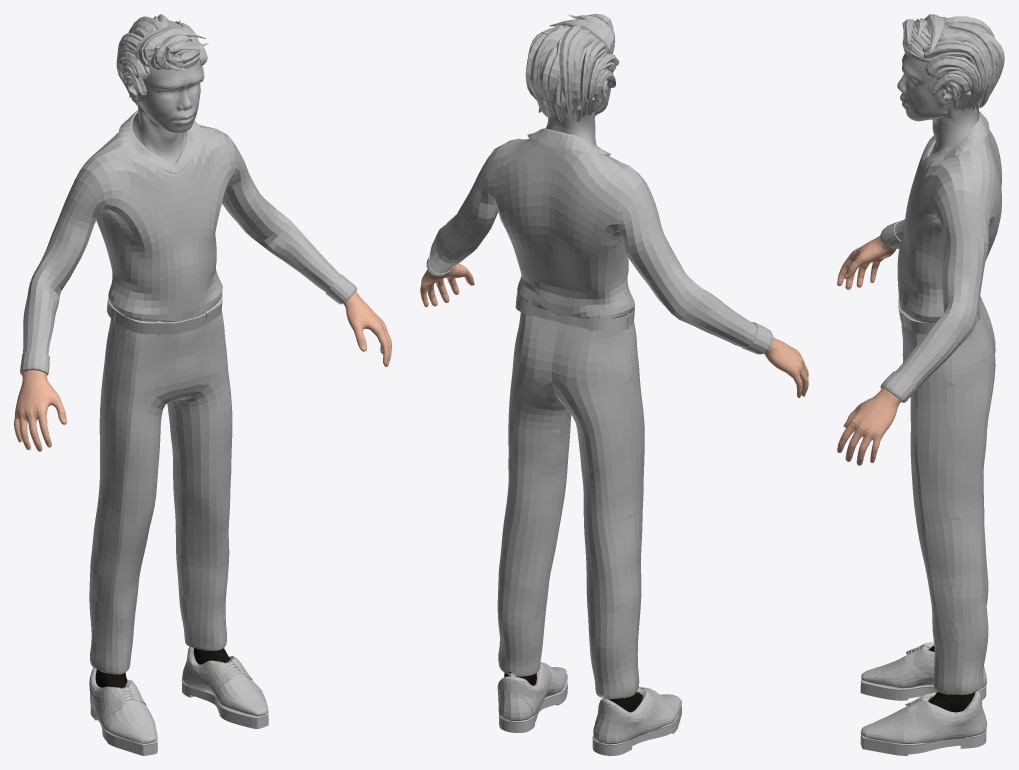
File: AntonioCarlos_CHAR.fbx
3 renders of one model, left to right at view 1: azimuth 30°, elevation 25°; view 2: azimuth 150°, elevation 25°; view 3: azimuth 270°, elevation 25°, orthographic. The views are drawn at different scales.
Visible parts, largest first — view 1: TonhoPants, TonhoShirt, TonhoShoes, TonhoHead, TonhoHands, TonhoHair, TonhoBelt; view 2: TonhoPants, TonhoShirt, TonhoHair, TonhoShoes, TonhoHands, TonhoBelt, TonhoHead; view 3: TonhoPants, TonhoShirt, TonhoShoes, TonhoHair, TonhoHands, TonhoHead, TonhoBelt.
Boxes of the visible parts, left/top/right/bottom form: TonhoPants: left=89, top=310, right=232, bottom=674; TonhoShirt: left=20, top=110, right=357, bottom=375; TonhoShoes: left=89, top=646, right=268, bottom=755; TonhoHead: left=124, top=58, right=202, bottom=165; TonhoHands: left=14, top=291, right=391, bottom=688; TonhoHair: left=116, top=14, right=208, bottom=104; TonhoBelt: left=107, top=296, right=222, bottom=335; TonhoPants: left=497, top=312, right=644, bottom=699; TonhoShirt: left=426, top=128, right=772, bottom=354; TonhoHair: left=525, top=14, right=619, bottom=123; TonhoShoes: left=497, top=662, right=681, bottom=755; TonhoHands: left=420, top=263, right=808, bottom=712; TonhoBelt: left=515, top=293, right=634, bottom=331; TonhoHead: left=545, top=44, right=610, bottom=145; TonhoPants: left=901, top=296, right=995, bottom=694; TonhoShirt: left=880, top=111, right=1001, bottom=402; TonhoShoes: left=860, top=642, right=986, bottom=755; TonhoHair: left=902, top=14, right=1004, bottom=111; TonhoHands: left=837, top=236, right=975, bottom=712; TonhoHead: left=897, top=27, right=978, bottom=155; TonhoBelt: left=898, top=296, right=980, bottom=334.
Bounding box in the file's own units: 101 × 178 × 38.75.
